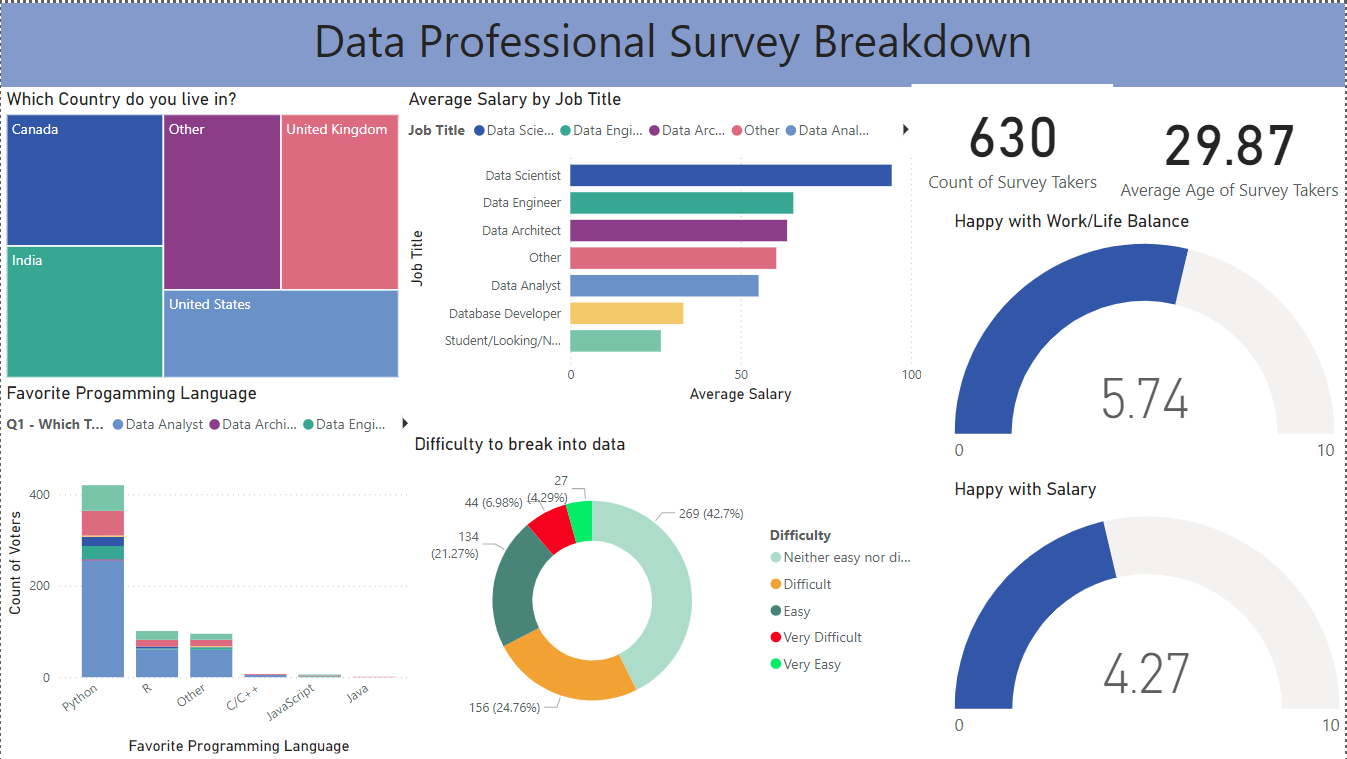

The page's visual inventory and layout, read from the dashboard file:
{"tool":"powerbi","page":{"name":"Page 1","canvas":[1280,720],"ordinal":0},"visuals":[{"type":"textbox","box":[0,0,1280,80],"z":0},{"type":"card","fields":{"Values":["CountNonNull(Data Professional Survey.Unique ID)"]},"box":[866.7,76.7,191.7,108.3],"z":1000},{"type":"card","fields":{"Values":["Avg(Data Professional Survey.Q10 - Current Age)"]},"box":[1058.3,80,221.7,116.7],"z":2000},{"type":"barChart","title":"Average Salary by Job Title","fields":{"Category":["Data Professional Survey.Q1 - Which Title Best Fits your Current Role?.1"],"Y":["Avg(Data Professional Survey.Average Salary)"],"Series":["Data Professional Survey.Q1 - Which Title Best Fits your Current Role?.1"]},"box":[383.3,81.7,498.3,303.3],"z":3000},{"type":"columnChart","title":"Favorite Progamming Language","fields":{"Category":["Data Professional Survey.Q5 - Favorite Programming Language.1"],"Y":["CountNonNull(Data Professional Survey.Unique ID)"],"Series":["Data Professional Survey.Q1 - Which Title Best Fits your Current Role?.1"]},"box":[0,361.7,401.7,358.3],"z":4000},{"type":"treemap","title":"Which Country do you live in?","fields":{"Group":["Data Professional Survey.Q11 - Which Country do you live in?.1"],"Values":["Count(Data Professional Survey.Q11 - Which Country do you live in?.1)"]},"box":[0,81.7,383.3,280],"z":5000},{"type":"gauge","title":"Happy with Salary","fields":{"MinValue":["Min(Data Professional Survey.Q6 - How Happy are you in your Current Position with the following? (Salary))"],"Y":["Avg(Data Professional Survey.Q6 - How Happy are you in your Current Position with the following? (Salary))"],"MaxValue":["Max(Data Professional Survey.Q6 - How Happy are you in your Current Position with the following? (Salary))"]},"box":[903.3,453.3,376.7,266.7],"z":5001},{"type":"gauge","title":"Happy with Work/Life Balance","fields":{"Y":["Avg(Data Professional Survey.Q6 - How Happy are you in your Current Position with the following? (Work/Life Balance))"],"MinValue":["Min(Data Professional Survey.Q6 - How Happy are you in your Current Position with the following? (Work/Life Balance))"],"MaxValue":["Max(Data Professional Survey.Q6 - How Happy are you in your Current Position with the following? (Work/Life Balance))"]},"box":[903.3,196.7,371.7,256.7],"z":5002},{"type":"donutChart","title":"Difficulty to break into data","fields":{"Category":["Data Professional Survey.Q7 - How difficult was it for you to break into Data?"],"Y":["CountNonNull(Data Professional Survey.Q7 - How difficult was it for you to break into Data?)"]},"box":[388.3,410,493.3,298.3],"z":5003}]}

Visuals, with their boxes in screenshot pixels (x1, y1, x2, y2), scaled from the page's 1280x720 canvas onto the 1347x759 screenshot:
textbox: (x1=0, y1=0, x2=1346, y2=84)
card - CountNonNull(Data Professional Survey.Unique ID): (x1=912, y1=81, x2=1114, y2=195)
card - Avg(Data Professional Survey.Q10 - Current Age): (x1=1114, y1=84, x2=1346, y2=207)
"Average Salary by Job Title" barChart: (x1=403, y1=86, x2=928, y2=406)
"Favorite Progamming Language" columnChart: (x1=0, y1=381, x2=423, y2=758)
"Which Country do you live in?" treemap: (x1=0, y1=86, x2=403, y2=381)
"Happy with Salary" gauge: (x1=951, y1=478, x2=1346, y2=758)
"Happy with Work/Life Balance" gauge: (x1=951, y1=207, x2=1342, y2=478)
"Difficulty to break into data" donutChart: (x1=409, y1=432, x2=928, y2=747)
